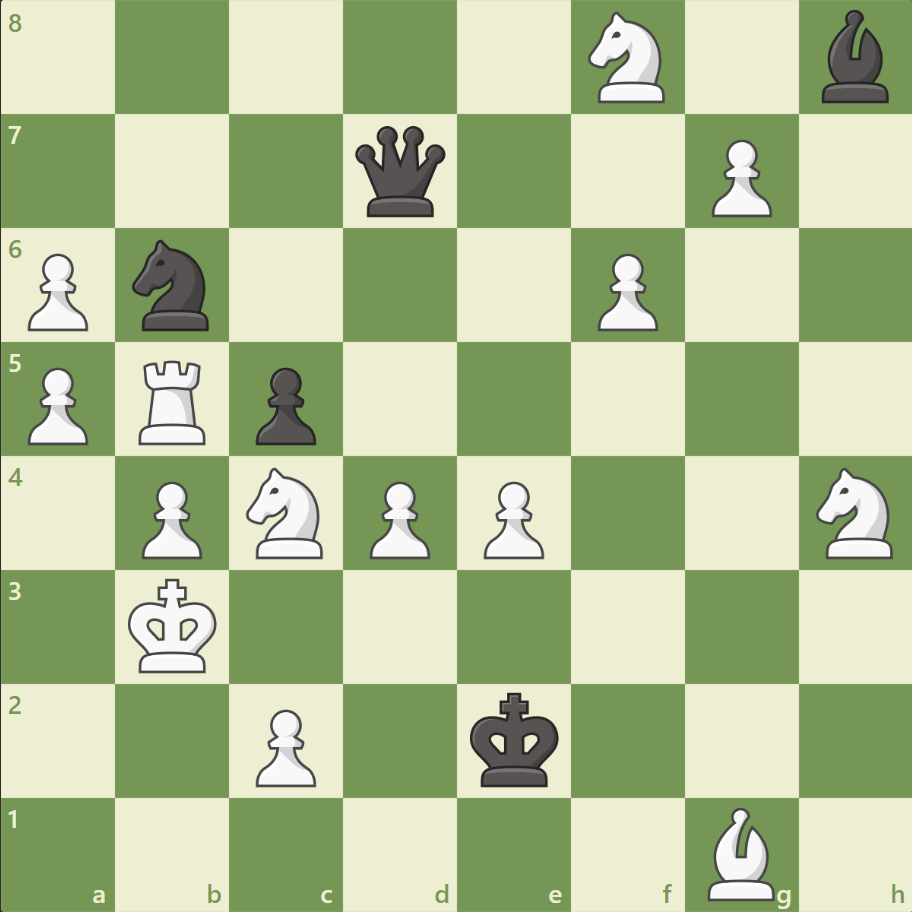B: (698, 801, 782, 904)
K: (124, 571, 224, 679)
N: (579, 7, 676, 110), (238, 461, 335, 564), (806, 461, 903, 564)
P: (701, 132, 776, 223), (20, 246, 95, 337), (20, 359, 95, 450), (133, 473, 208, 564), (474, 473, 549, 564), (247, 700, 322, 791), (588, 246, 662, 337), (361, 473, 435, 564)
R: (133, 352, 215, 449)
b: (812, 6, 896, 109)
k: (465, 685, 565, 793)
n: (124, 234, 222, 337)
p: (247, 359, 322, 450)
q: (351, 122, 450, 222)
